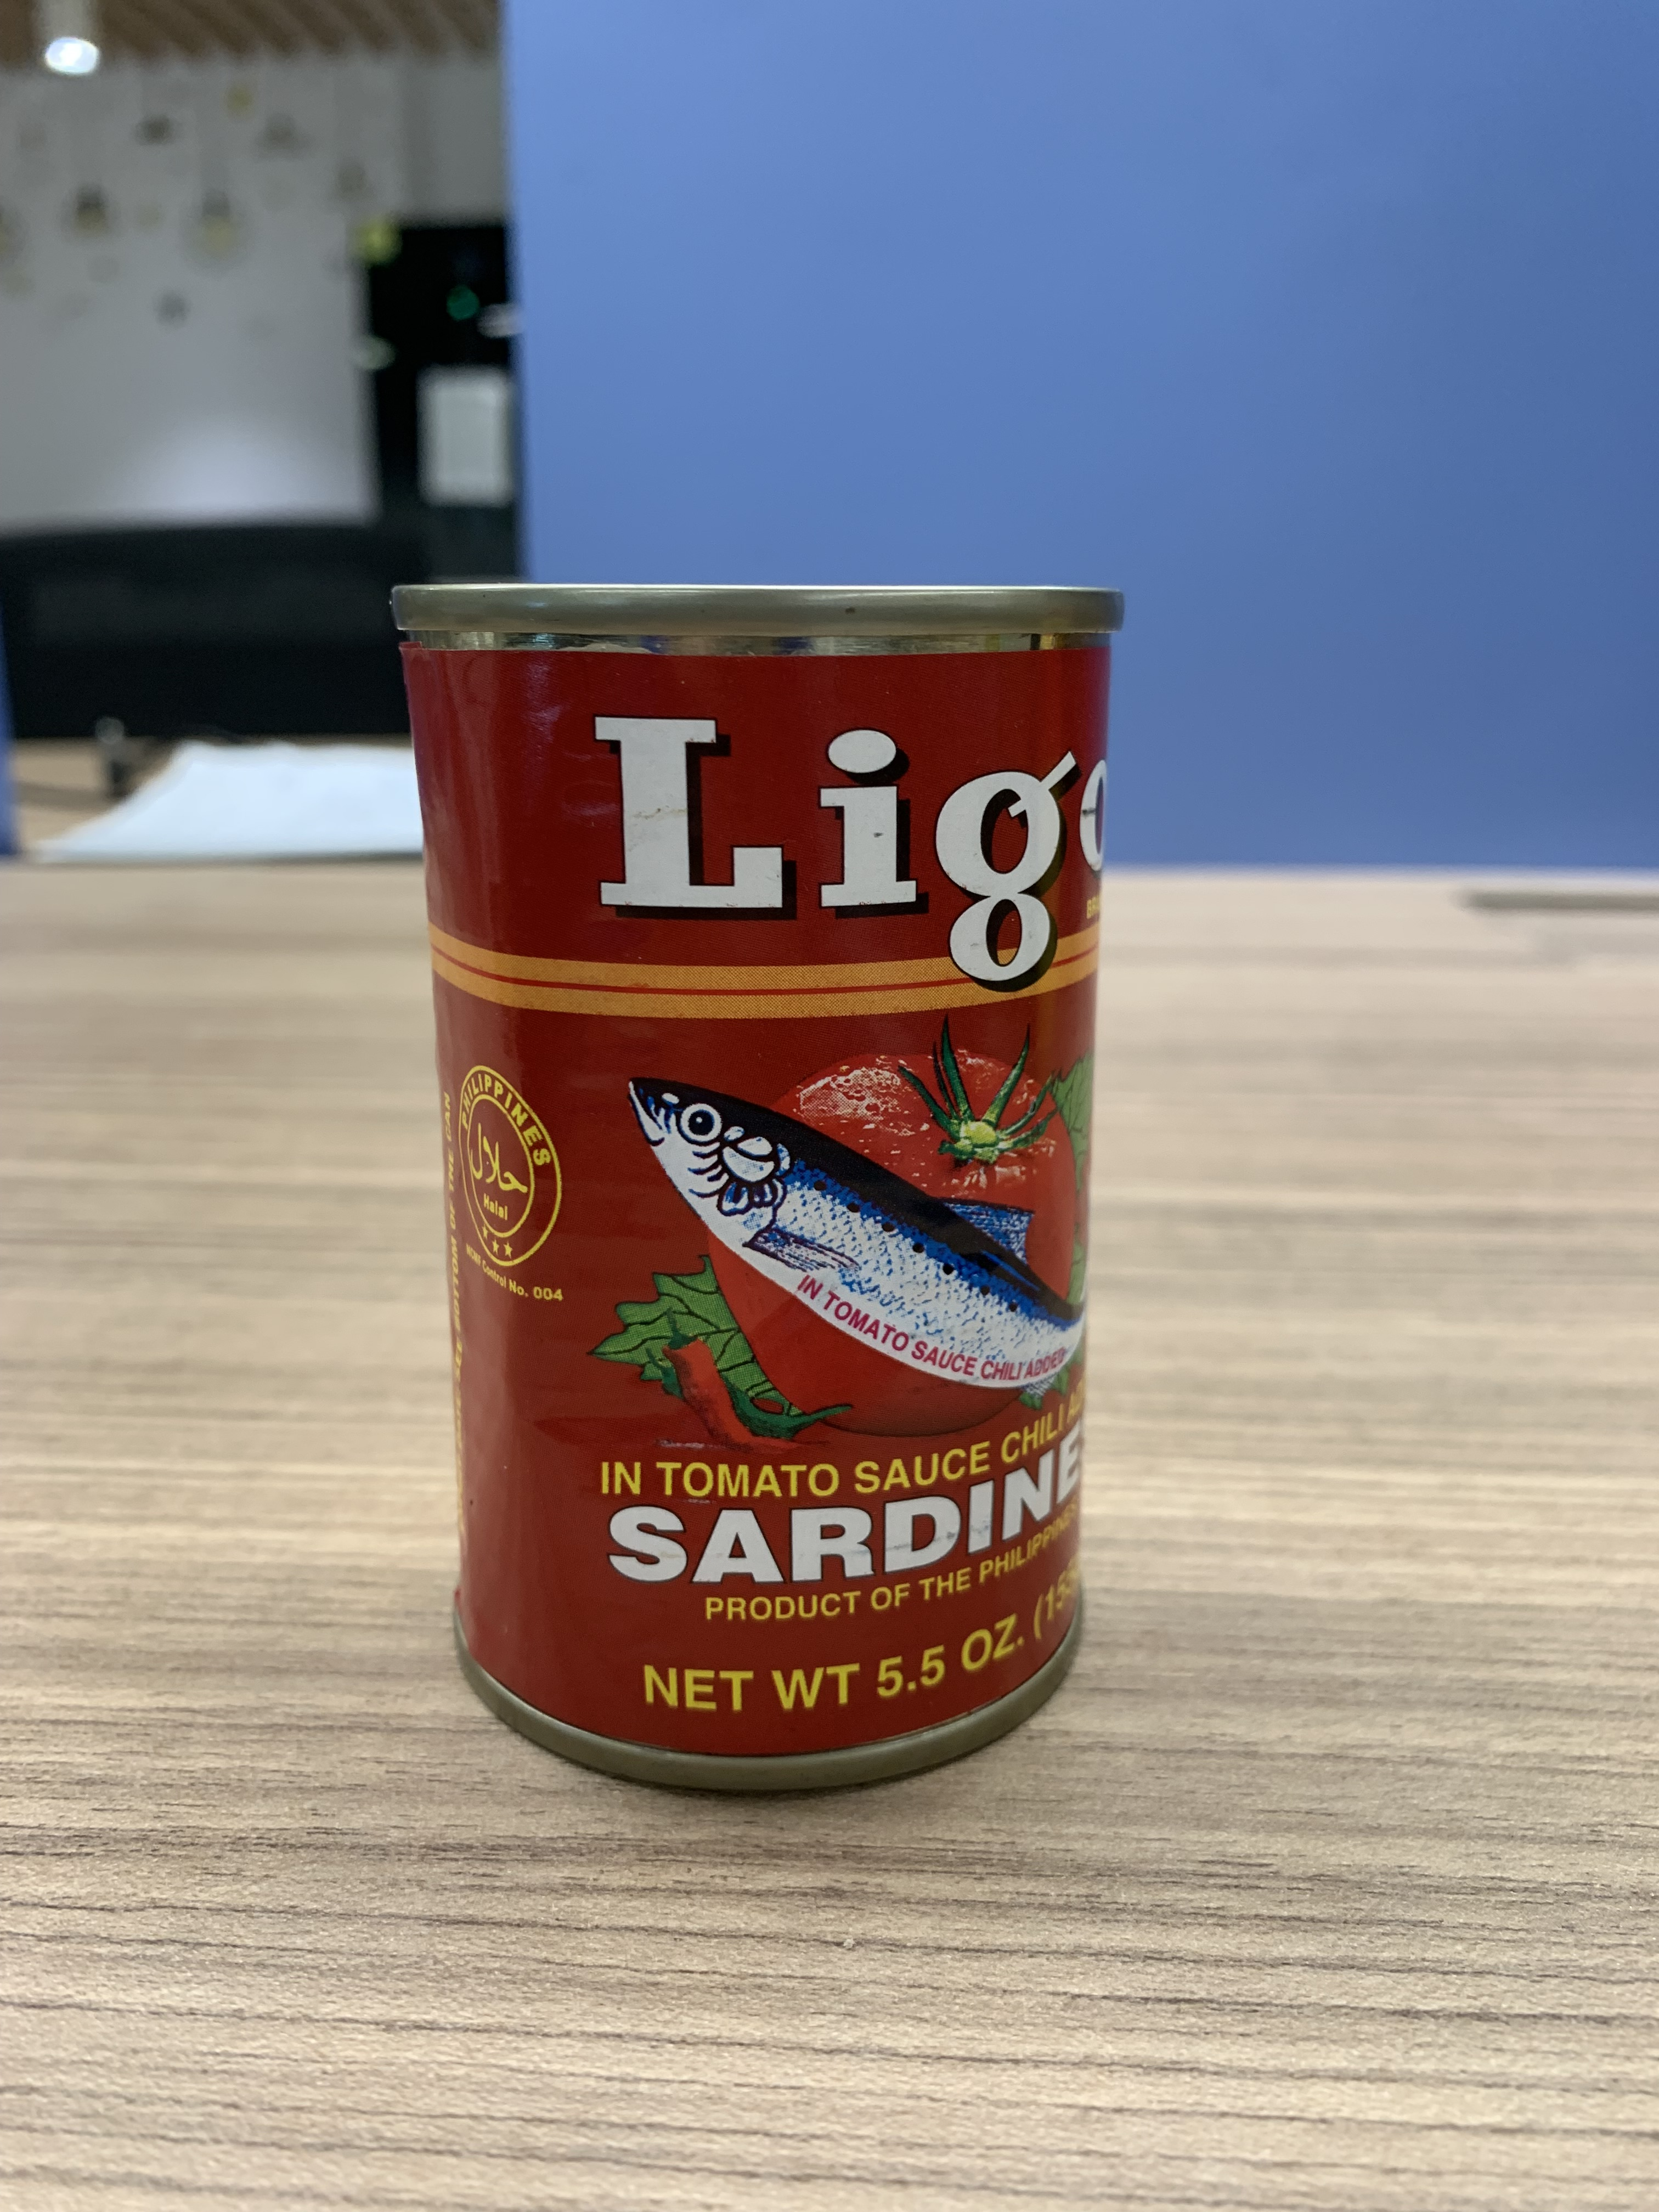sardines_100g-199g: (453, 639, 1089, 1730)
